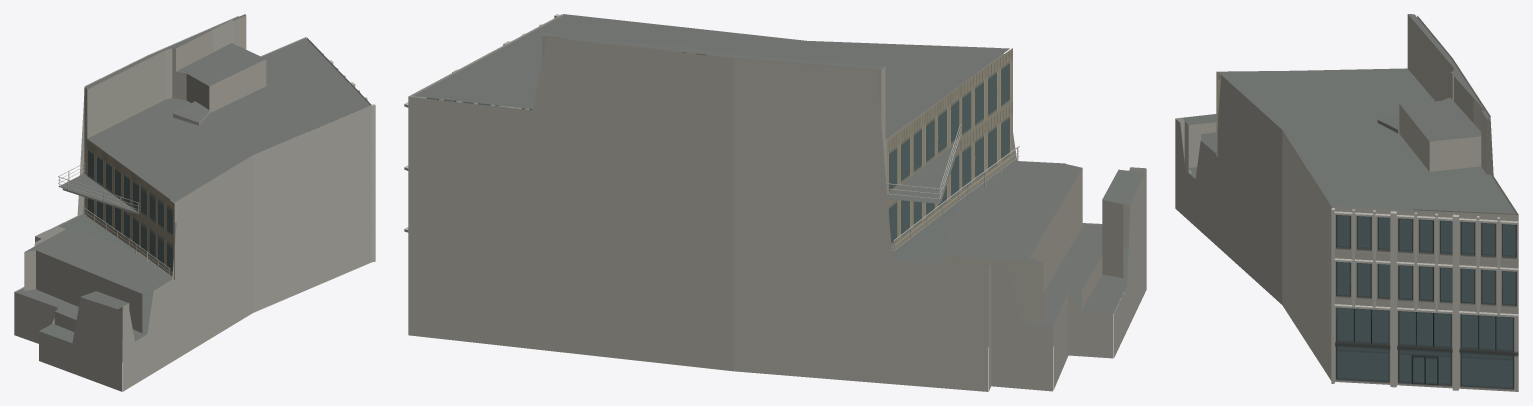
The picture shows the model from 3 angles, left to right: view 1: azimuth 30°, elevation 25°; view 2: azimuth 150°, elevation 25°; view 3: azimuth 270°, elevation 25°; orthographic projection. The views are drawn at different scales.
Visible parts, largest first — view 1: 0363100012167569; view 2: 0363100012167569; view 3: 0363100012167569.
Part boxes in pixels (left/top/right/bottom): 0363100012167569: left=14, top=14, right=375, bottom=391; 0363100012167569: left=404, top=14, right=1146, bottom=391; 0363100012167569: left=1175, top=14, right=1518, bottom=391.
Bounding box in the file's own units: 38.73 × 20.84 × 27.86.
Materials: 3 (1 with a texture image).
